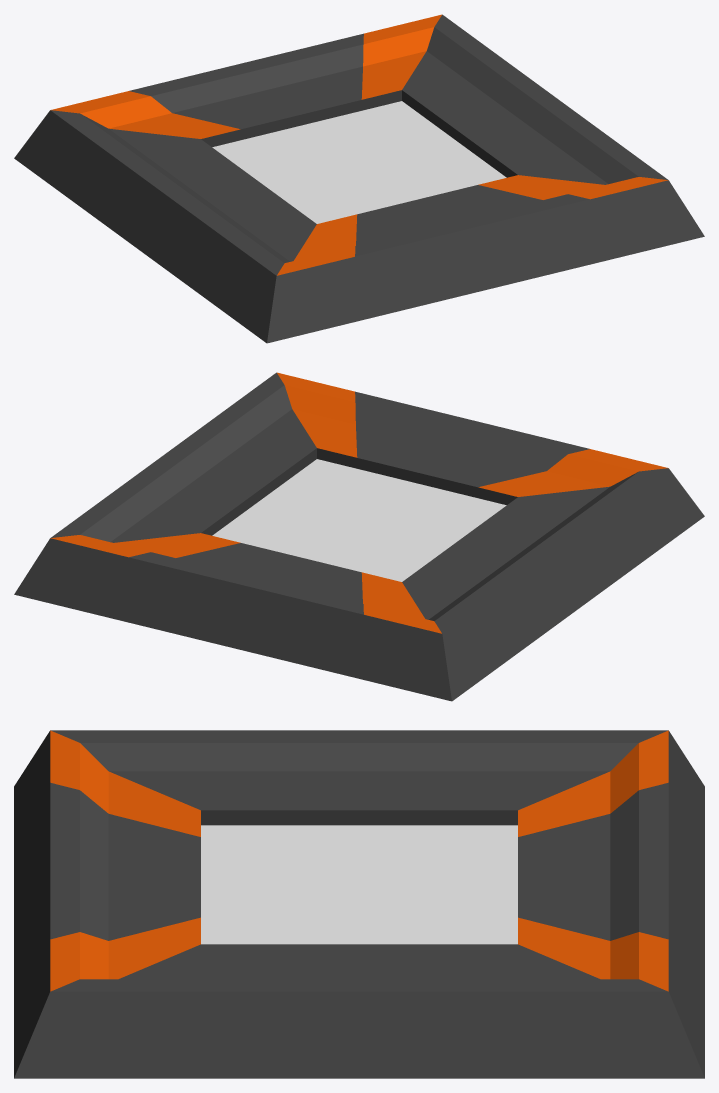
File: plataform.fbx
3 renders of one model, top to bottom at view 1: azimuth 30°, elevation 25°; view 2: azimuth 150°, elevation 25°; view 3: azimuth 270°, elevation 25°, orthographic. The views are drawn at different scales.
Visible parts, largest first — view 1: Cube; view 2: Cube; view 3: Cube.
Boxes of the visible parts, box(x1,y1,x2,y2) form: Cube: box(14, 14, 704, 343); Cube: box(14, 372, 704, 701); Cube: box(14, 730, 704, 1078).
Bounding box in the file's own units: 614 × 134 × 614.
